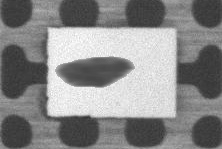DIE_INK: (72, 37, 206, 60)
